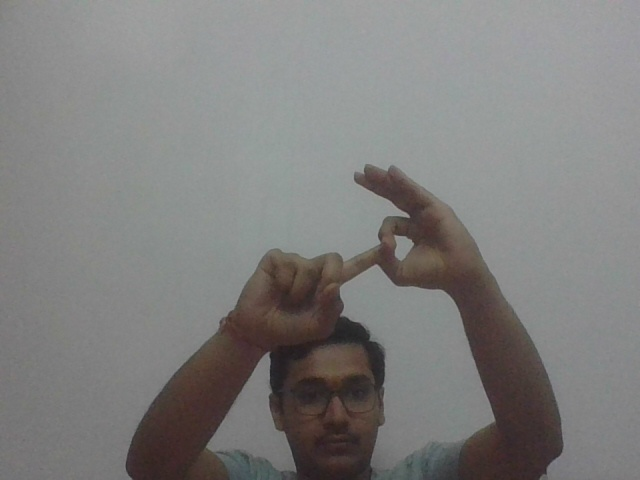Q: (285, 161, 456, 312)
